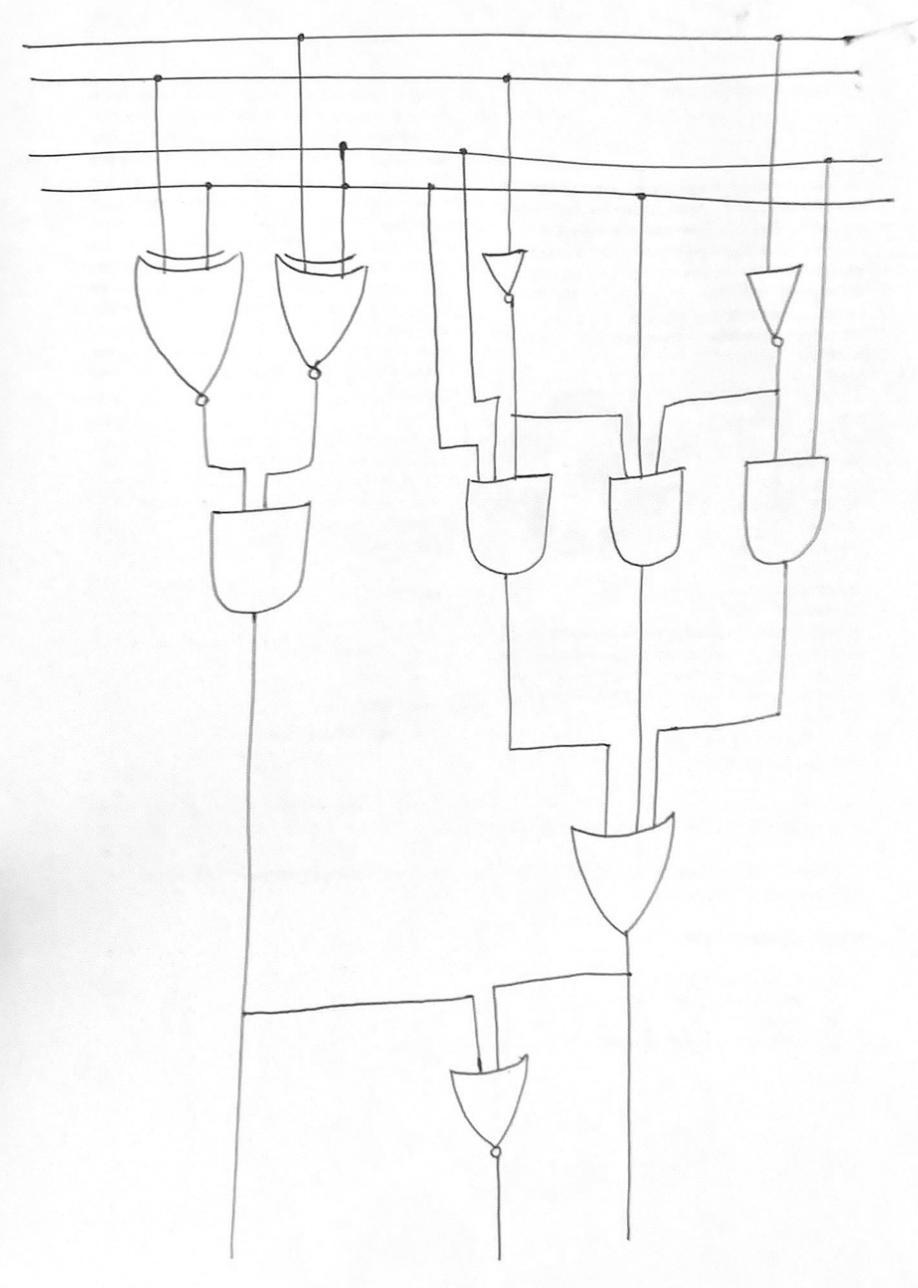AND: (195, 498, 352, 646), (448, 465, 565, 585), (735, 452, 838, 580), (595, 460, 699, 583)
NOR: (427, 1048, 556, 1166)
NOT: (732, 265, 808, 350), (480, 245, 547, 318)
OR: (550, 808, 719, 947)
XNOR: (125, 235, 259, 426), (270, 235, 386, 389)
